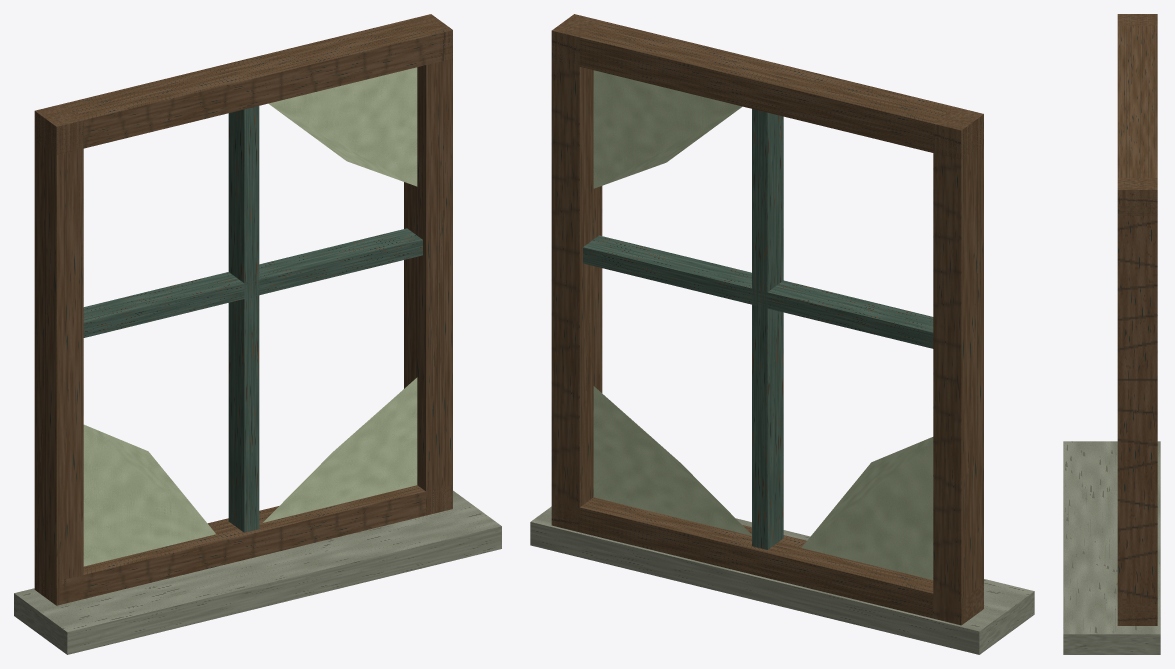
File: BrokenWindow.obj
The picture shows the model from 3 angles, left to right: view 1: azimuth 30°, elevation 25°; view 2: azimuth 150°, elevation 25°; view 3: azimuth 270°, elevation 25°; orthographic projection. The views are drawn at different scales.
Parts seen in each view (by area): view 1: BrokenWindow; view 2: BrokenWindow; view 3: BrokenWindow.
Boxes of the visible parts, x1,y1,x2,y2 form: BrokenWindow: [14, 14, 501, 654]; BrokenWindow: [530, 14, 1034, 654]; BrokenWindow: [1063, 14, 1160, 654].
Bounding box in the file's own units: 1.6 × 1.77 × 0.34.
4 materials, 4 textured.
